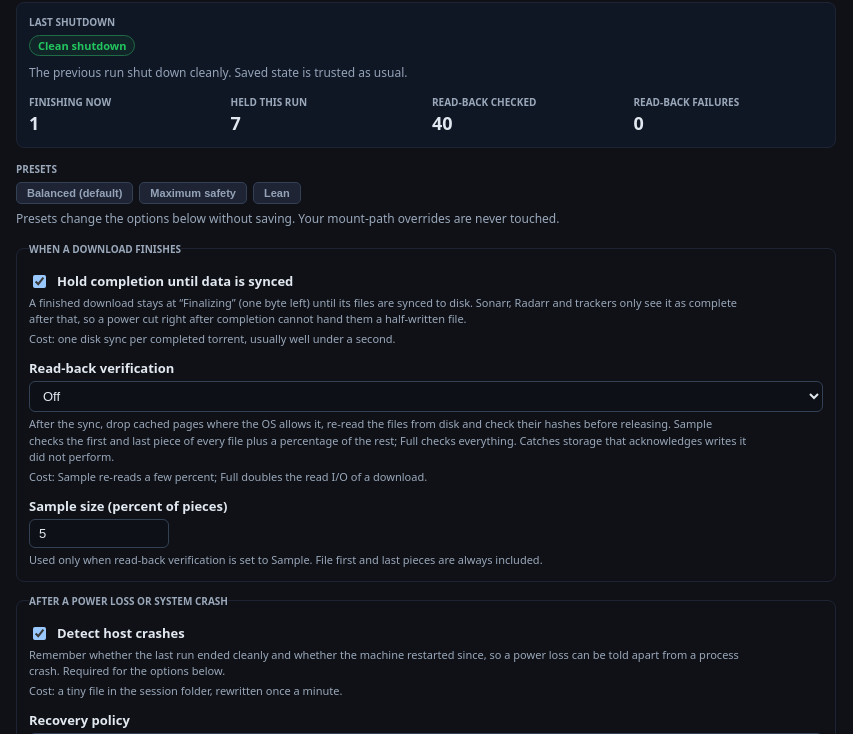
Test: CrashSafetyPanel › applies edited settings and reflects the override
The width and height of the screenshot is (853, 734).
Select "Sample" in the dropdown labelled "Read-back verification" at {"x": 426, "y": 397}, box x1=29 y1=381 x2=823 y2=412
(page scrolled)
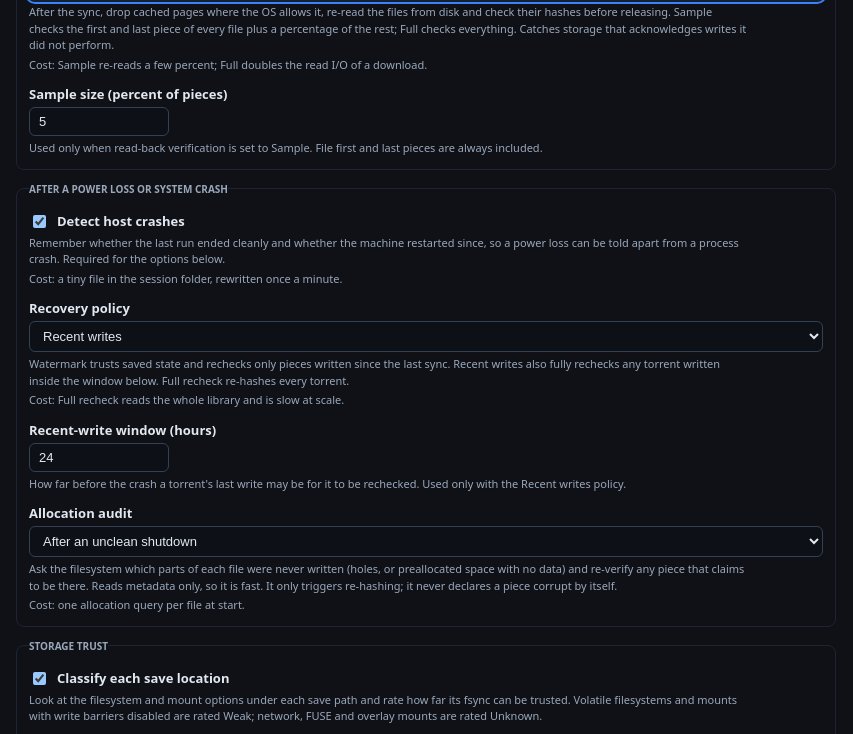
Select "Full recheck" in the dropdown labelled "Recovery policy" at {"x": 426, "y": 337}, box x1=29 y1=321 x2=823 y2=352
(page scrolled)
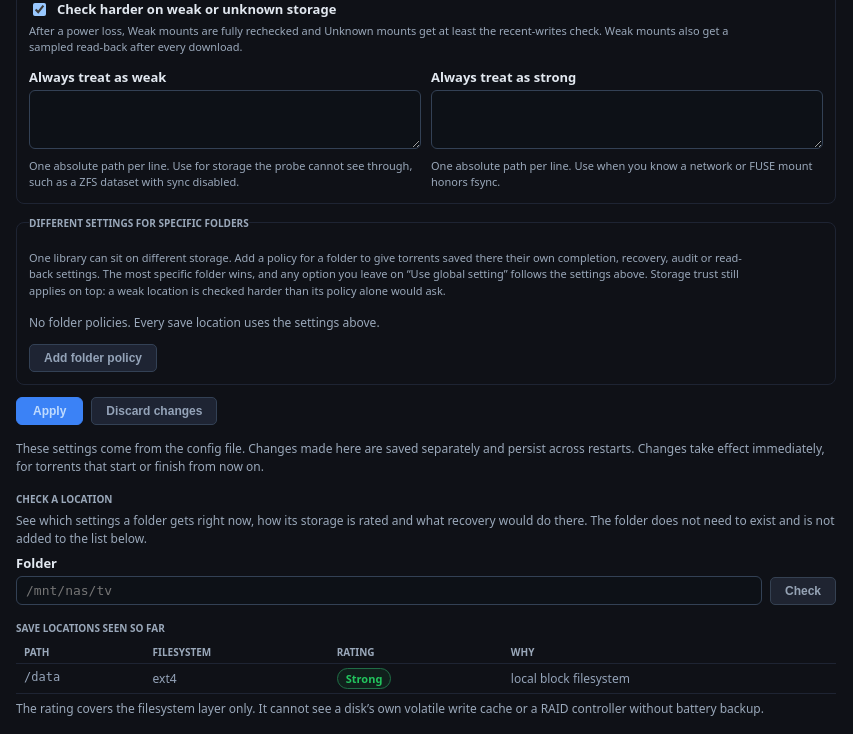
Result: the button "Apply" is enabled
Click the button "Apply" at {"x": 50, "y": 411}, box x1=16 y1=397 x2=83 y2=425
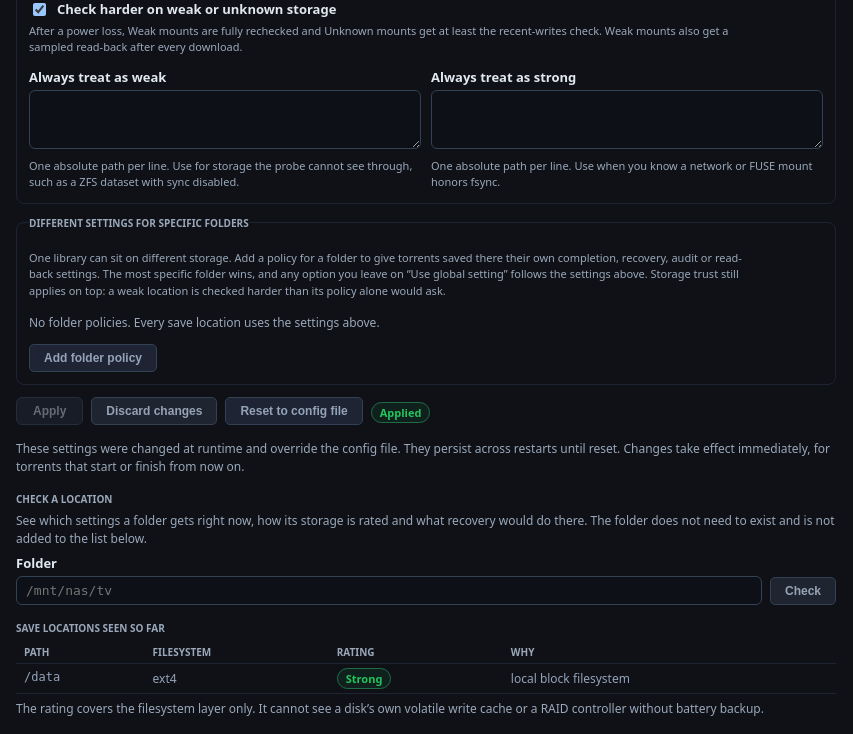
Result: the text "Applied" is shown at x1=371 y1=402 x2=430 y2=423
Result: the button "Reset to config file" is shown at x1=225 y1=397 x2=363 y2=425
Result: the text "changed at runtime and override the config file" is shown at x1=16 y1=440 x2=620 y2=457
